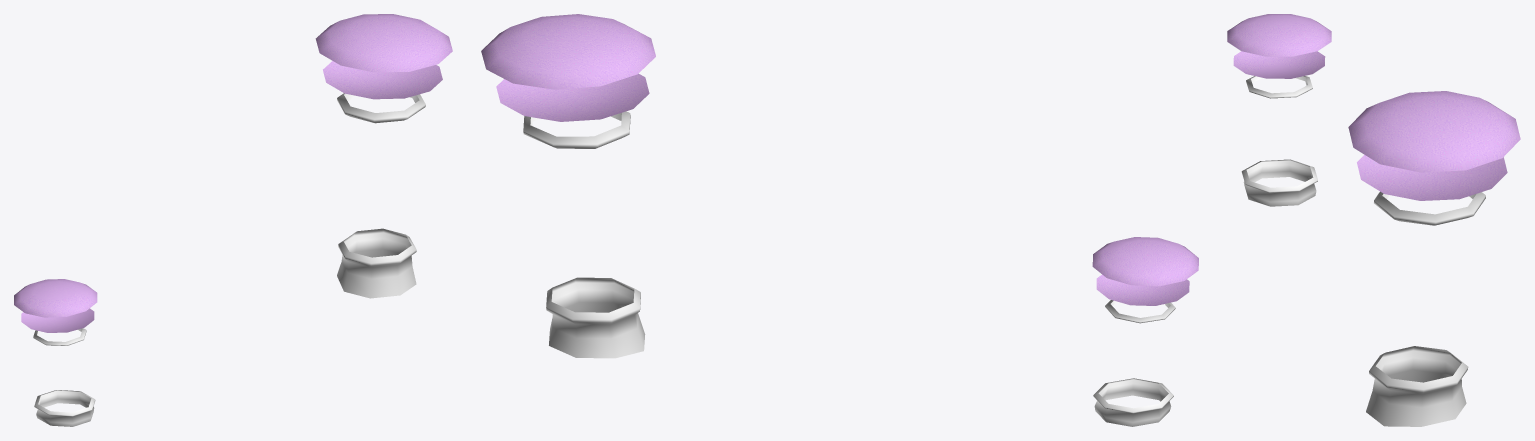
The model's file is pilars2.obj.
3 renders of one model, left to right at view 1: azimuth 30°, elevation 25°; view 2: azimuth 150°, elevation 25°; view 3: azimuth 270°, elevation 25°, orthographic. The views are drawn at different scales.
Visible parts, largest first — view 1: _0d9a7903_dds, a194b7ee_dds; view 2: _0d9a7903_dds, a194b7ee_dds; view 3: _0d9a7903_dds, a194b7ee_dds.
Part boxes in pixels (x1,y1,x2,y2): _0d9a7903_dds: (14,14,452,332); a194b7ee_dds: (33,93,425,426); _0d9a7903_dds: (481,14,1198,305); a194b7ee_dds: (523,111,1175,426); _0d9a7903_dds: (1227,14,1520,200); a194b7ee_dds: (1241,76,1485,426).
Size of the model in its own units: 4.13 by 2.03 by 1.72.
